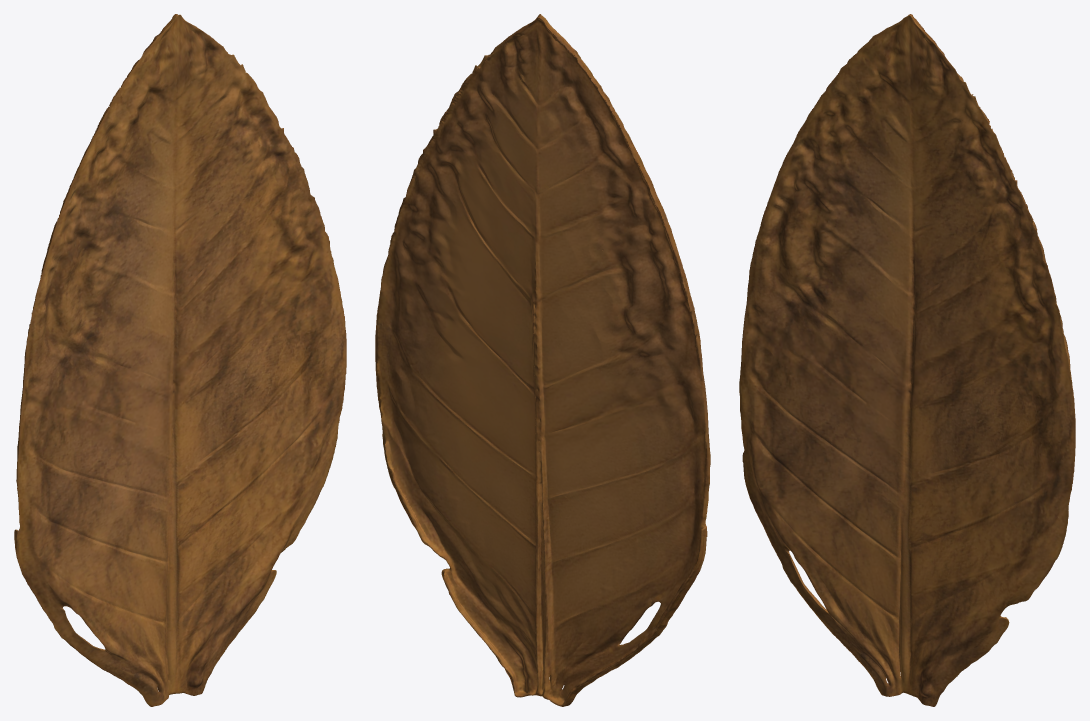
The model's file is daun-tembakau.glb.
3 renders of one model, left to right at view 1: azimuth 30°, elevation 25°; view 2: azimuth 150°, elevation 25°; view 3: azimuth 330°, elevation 25°, orthographic.
Parts seen in each view (by area): view 1: tripo_node_2599899c-e8b6-4b39-bce4-f7b05ee50cd0; view 2: tripo_node_2599899c-e8b6-4b39-bce4-f7b05ee50cd0; view 3: tripo_node_2599899c-e8b6-4b39-bce4-f7b05ee50cd0.
Part boxes in pixels (bbox=[...]): tripo_node_2599899c-e8b6-4b39-bce4-f7b05ee50cd0: bbox=[14, 14, 346, 706]; tripo_node_2599899c-e8b6-4b39-bce4-f7b05ee50cd0: bbox=[375, 14, 710, 706]; tripo_node_2599899c-e8b6-4b39-bce4-f7b05ee50cd0: bbox=[739, 14, 1075, 706].
Bounding box in the file's own units: 0.1016 × 0.2 × 0.00618.
1 material, 1 textured.
